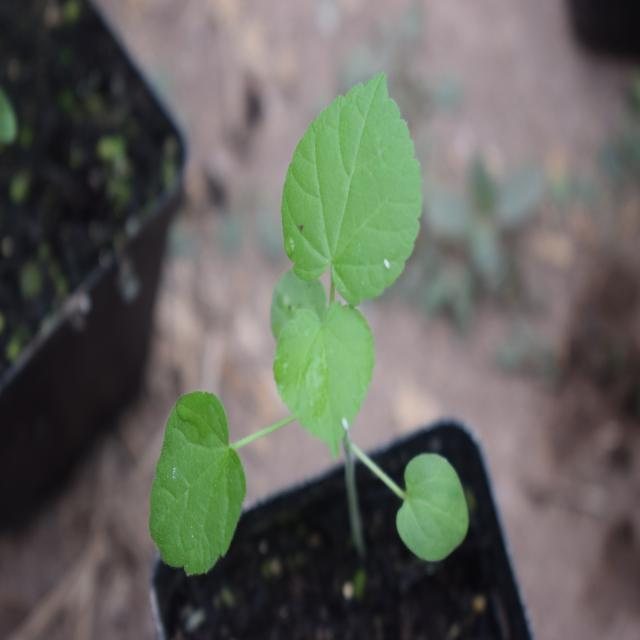abutilon theophrasti: (149, 85, 490, 598)
